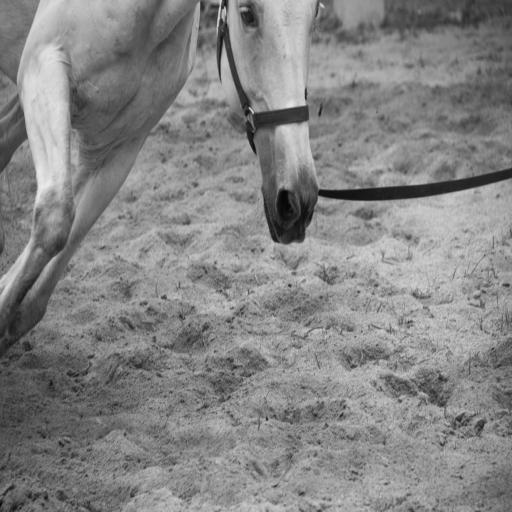Horse: (0, 0, 326, 358)
